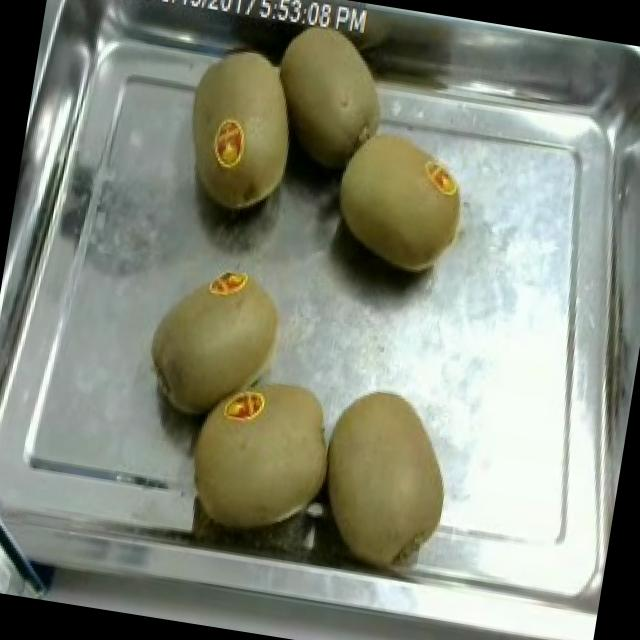Fruit: (171, 354, 345, 556), (310, 374, 477, 581), (135, 250, 299, 436), (167, 31, 316, 232), (318, 113, 485, 290), (258, 8, 399, 178)
